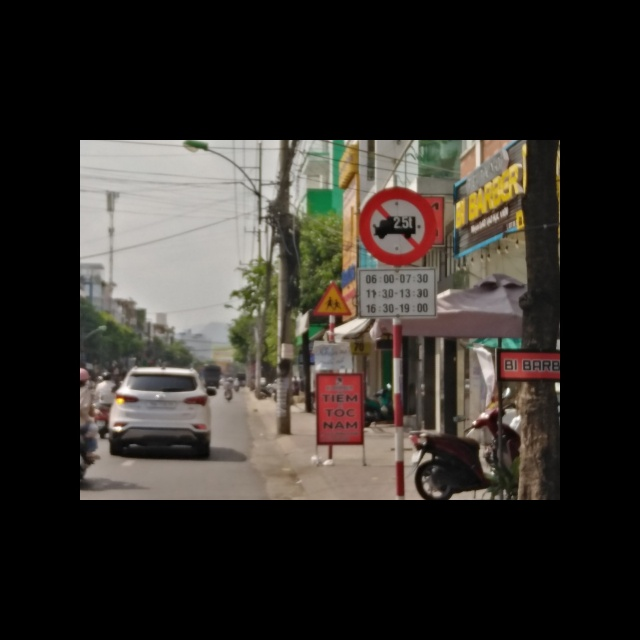Cấm xe tải: (357, 186, 438, 265)
Trẻ em ngang qua: (310, 278, 350, 315)
